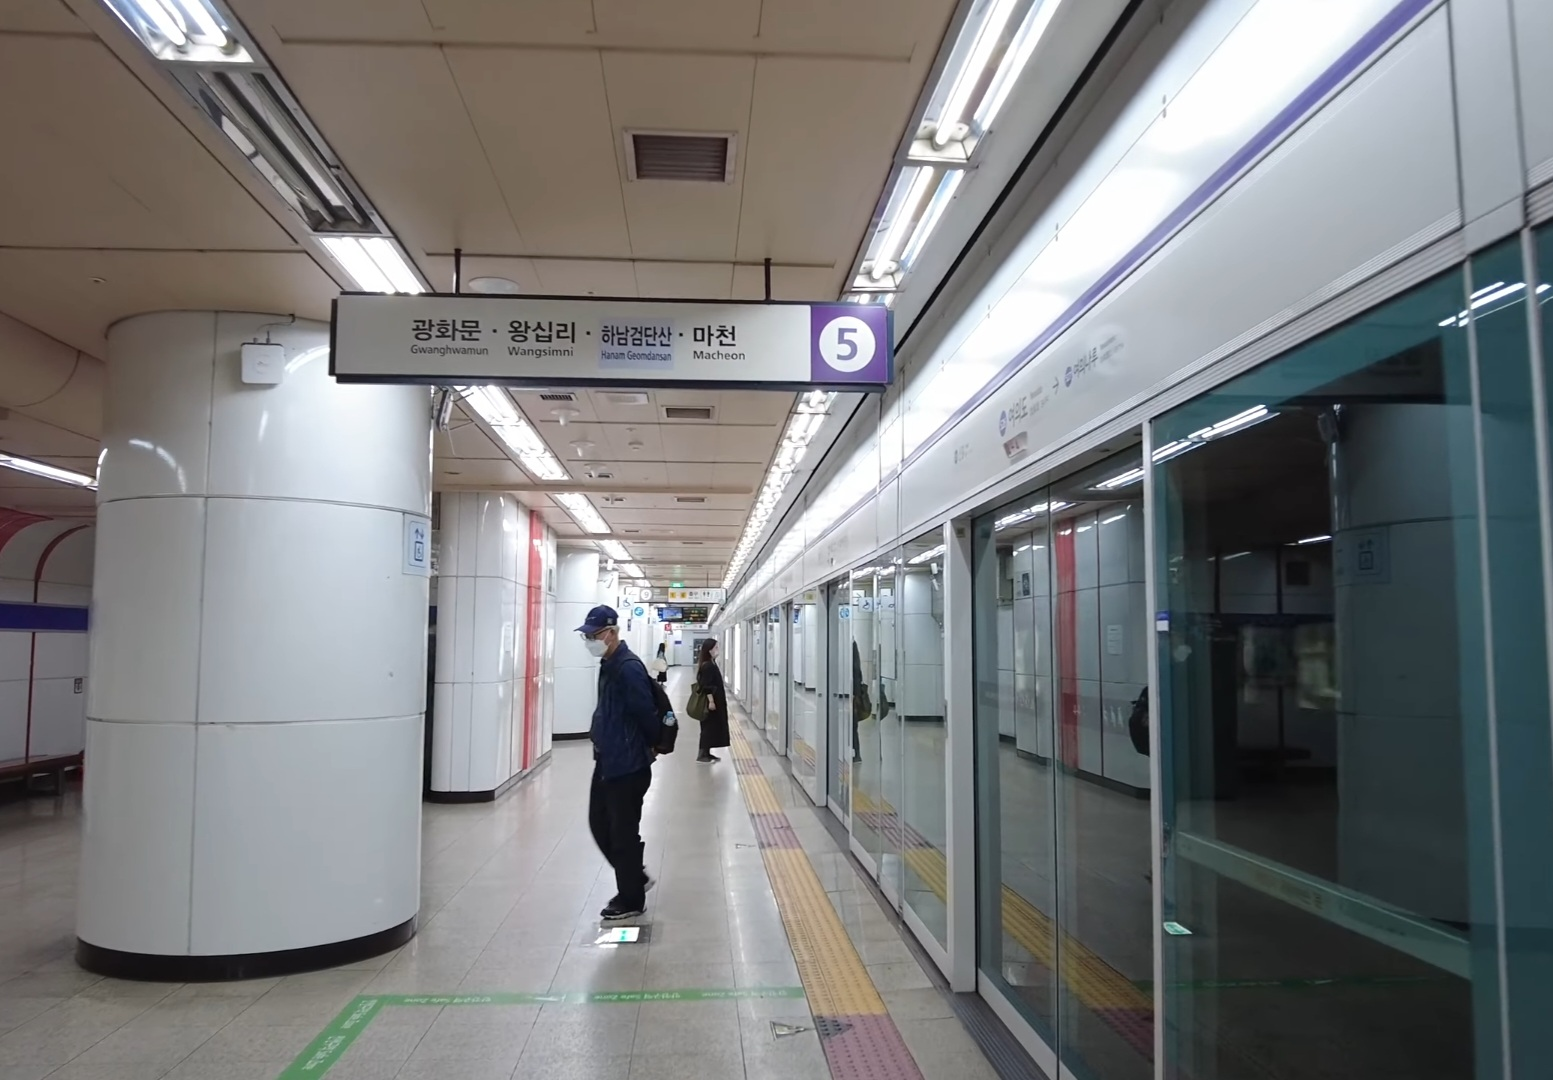signBoard: (321, 279, 909, 408)
